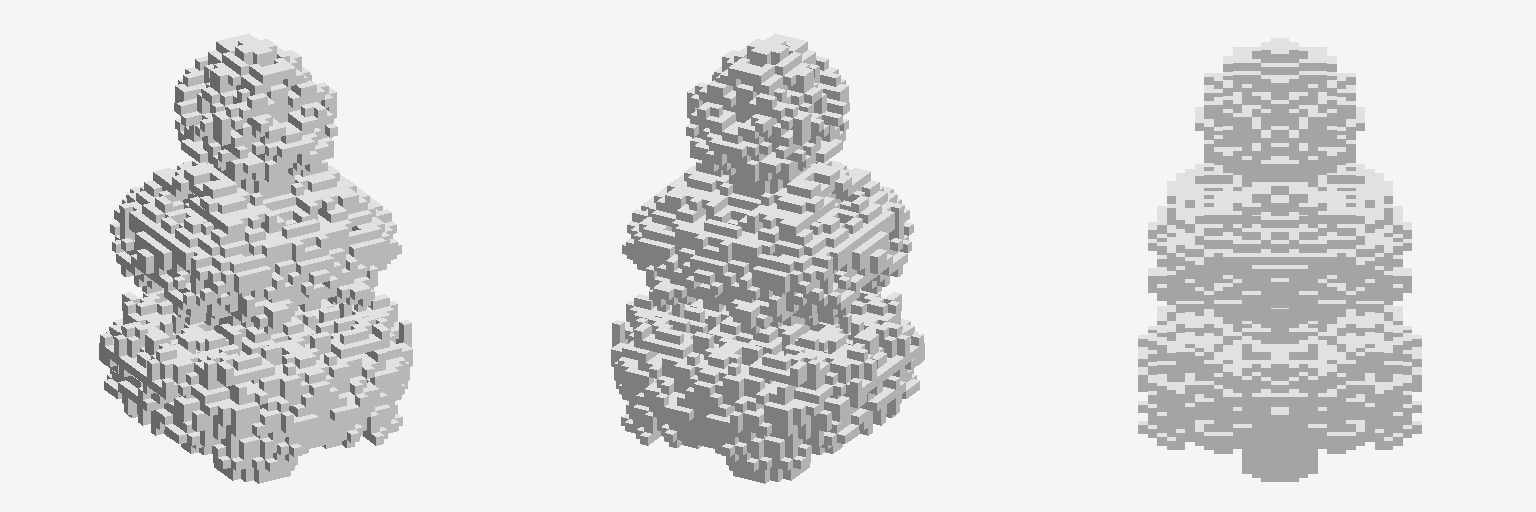
File: Tree1.obj
3 renders of one model, left to right at view 1: azimuth 30°, elevation 25°; view 2: azimuth 150°, elevation 25°; view 3: azimuth 270°, elevation 25°, orthographic.
Visible parts, largest first — view 1: Tree1; view 2: Tree1; view 3: Tree1.
Part boxes in pixels (x1,y1,x2,y2): Tree1: (99, 33, 412, 483); Tree1: (611, 33, 924, 483); Tree1: (1138, 38, 1421, 481).
Bounding box in the file's own units: 3 × 4.9 × 3.